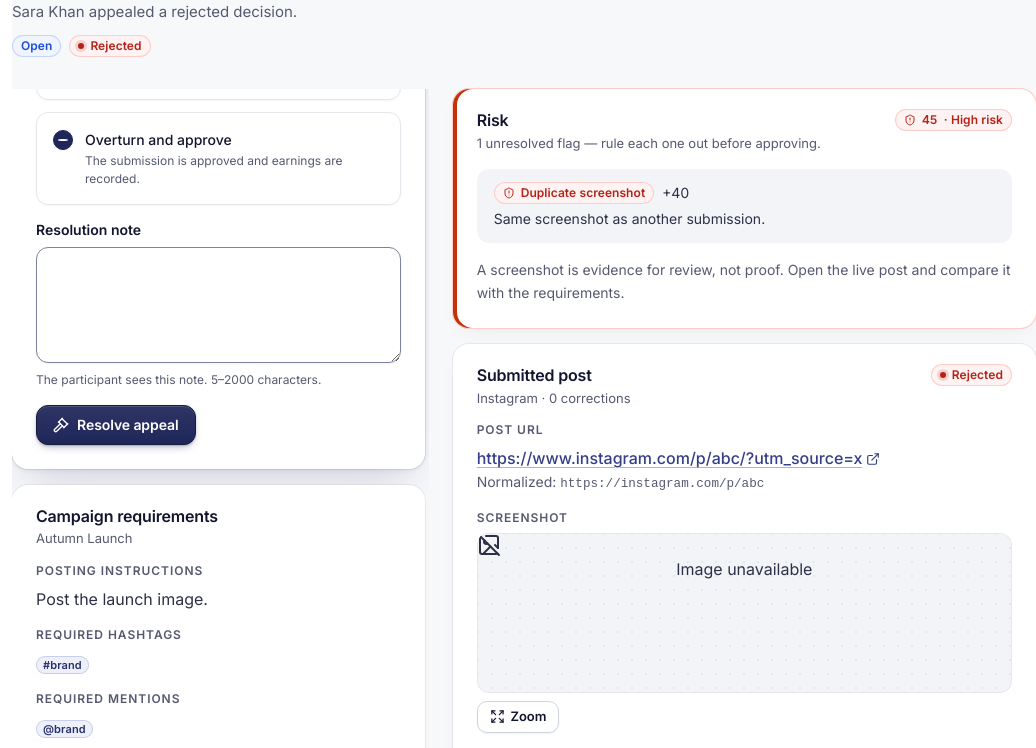
AppealDetailPage › requires an outcome and a note
(page scrolled)
Click the button "Resolve appeal" at (116, 425), box [36, 405, 196, 445]
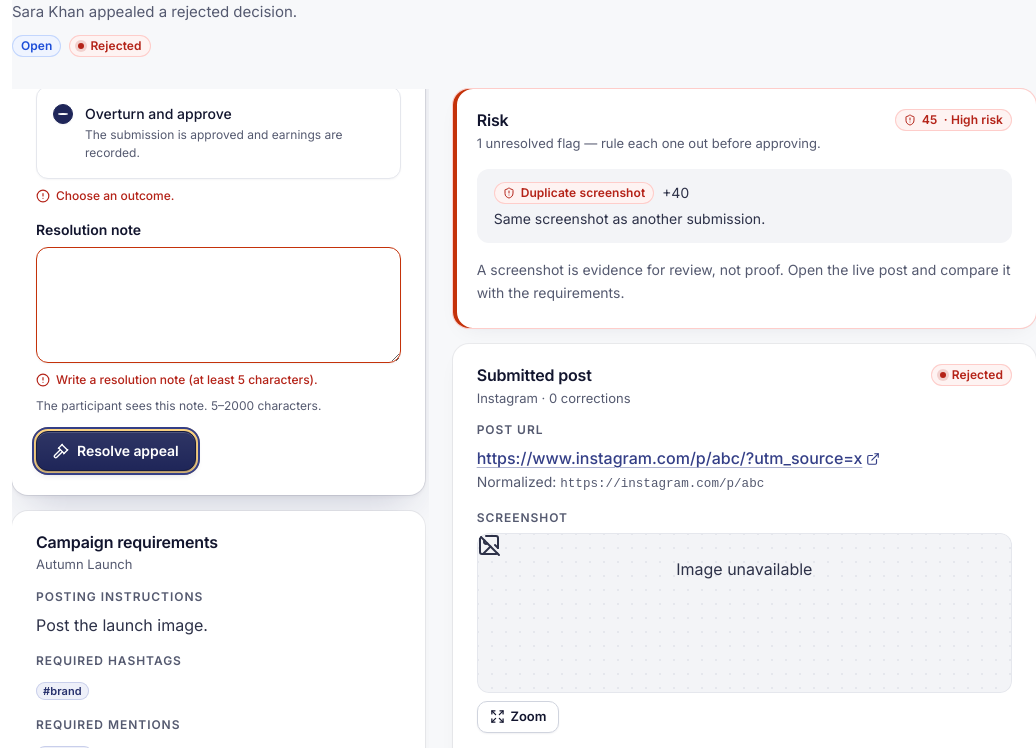
Result: the text "Choose an outcome." is shown at [56, 187, 174, 205]
Result: the text "Write a resolution note (at least 5 characters)." is shown at [56, 371, 318, 389]
